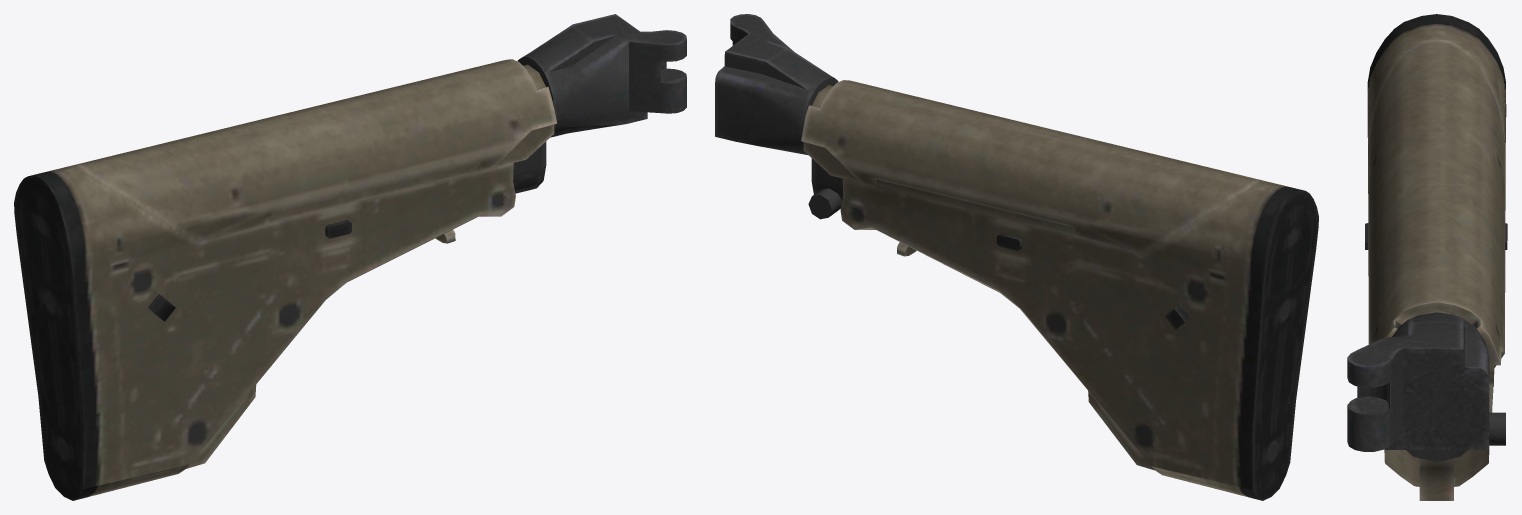
The model's file is ST_Stock_Vector_1.FBX.
3 renders of one model, left to right at view 1: azimuth 30°, elevation 25°; view 2: azimuth 150°, elevation 25°; view 3: azimuth 270°, elevation 25°, orthographic. The views are drawn at different scales.
Visible parts, largest first — view 1: ST_Stock_Vector_1; view 2: ST_Stock_Vector_1; view 3: ST_Stock_Vector_1.
Part boxes in pixels (bbox=[...]): ST_Stock_Vector_1: bbox=[14, 14, 686, 500]; ST_Stock_Vector_1: bbox=[715, 14, 1318, 500]; ST_Stock_Vector_1: bbox=[1347, 14, 1507, 500].
Size of the model in its own units: 26 by 13.63 by 4.73.
1 material, 1 textured.
